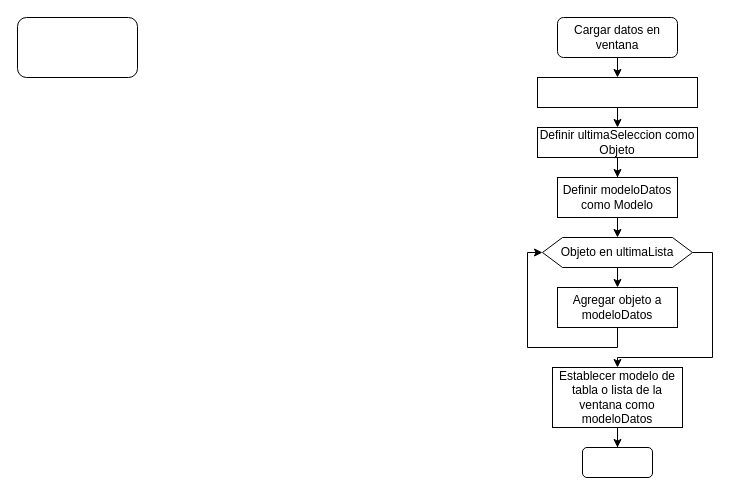
Image size: 738x495. Some labels were removed from this diagram. Each missing label, with the centre of its shape:
"Definir ultimaLista como Lista" belongs at [617,92].
"Fin" belongs at [617,462].
"Visualizar datos ventana" belongs at [77,47].
